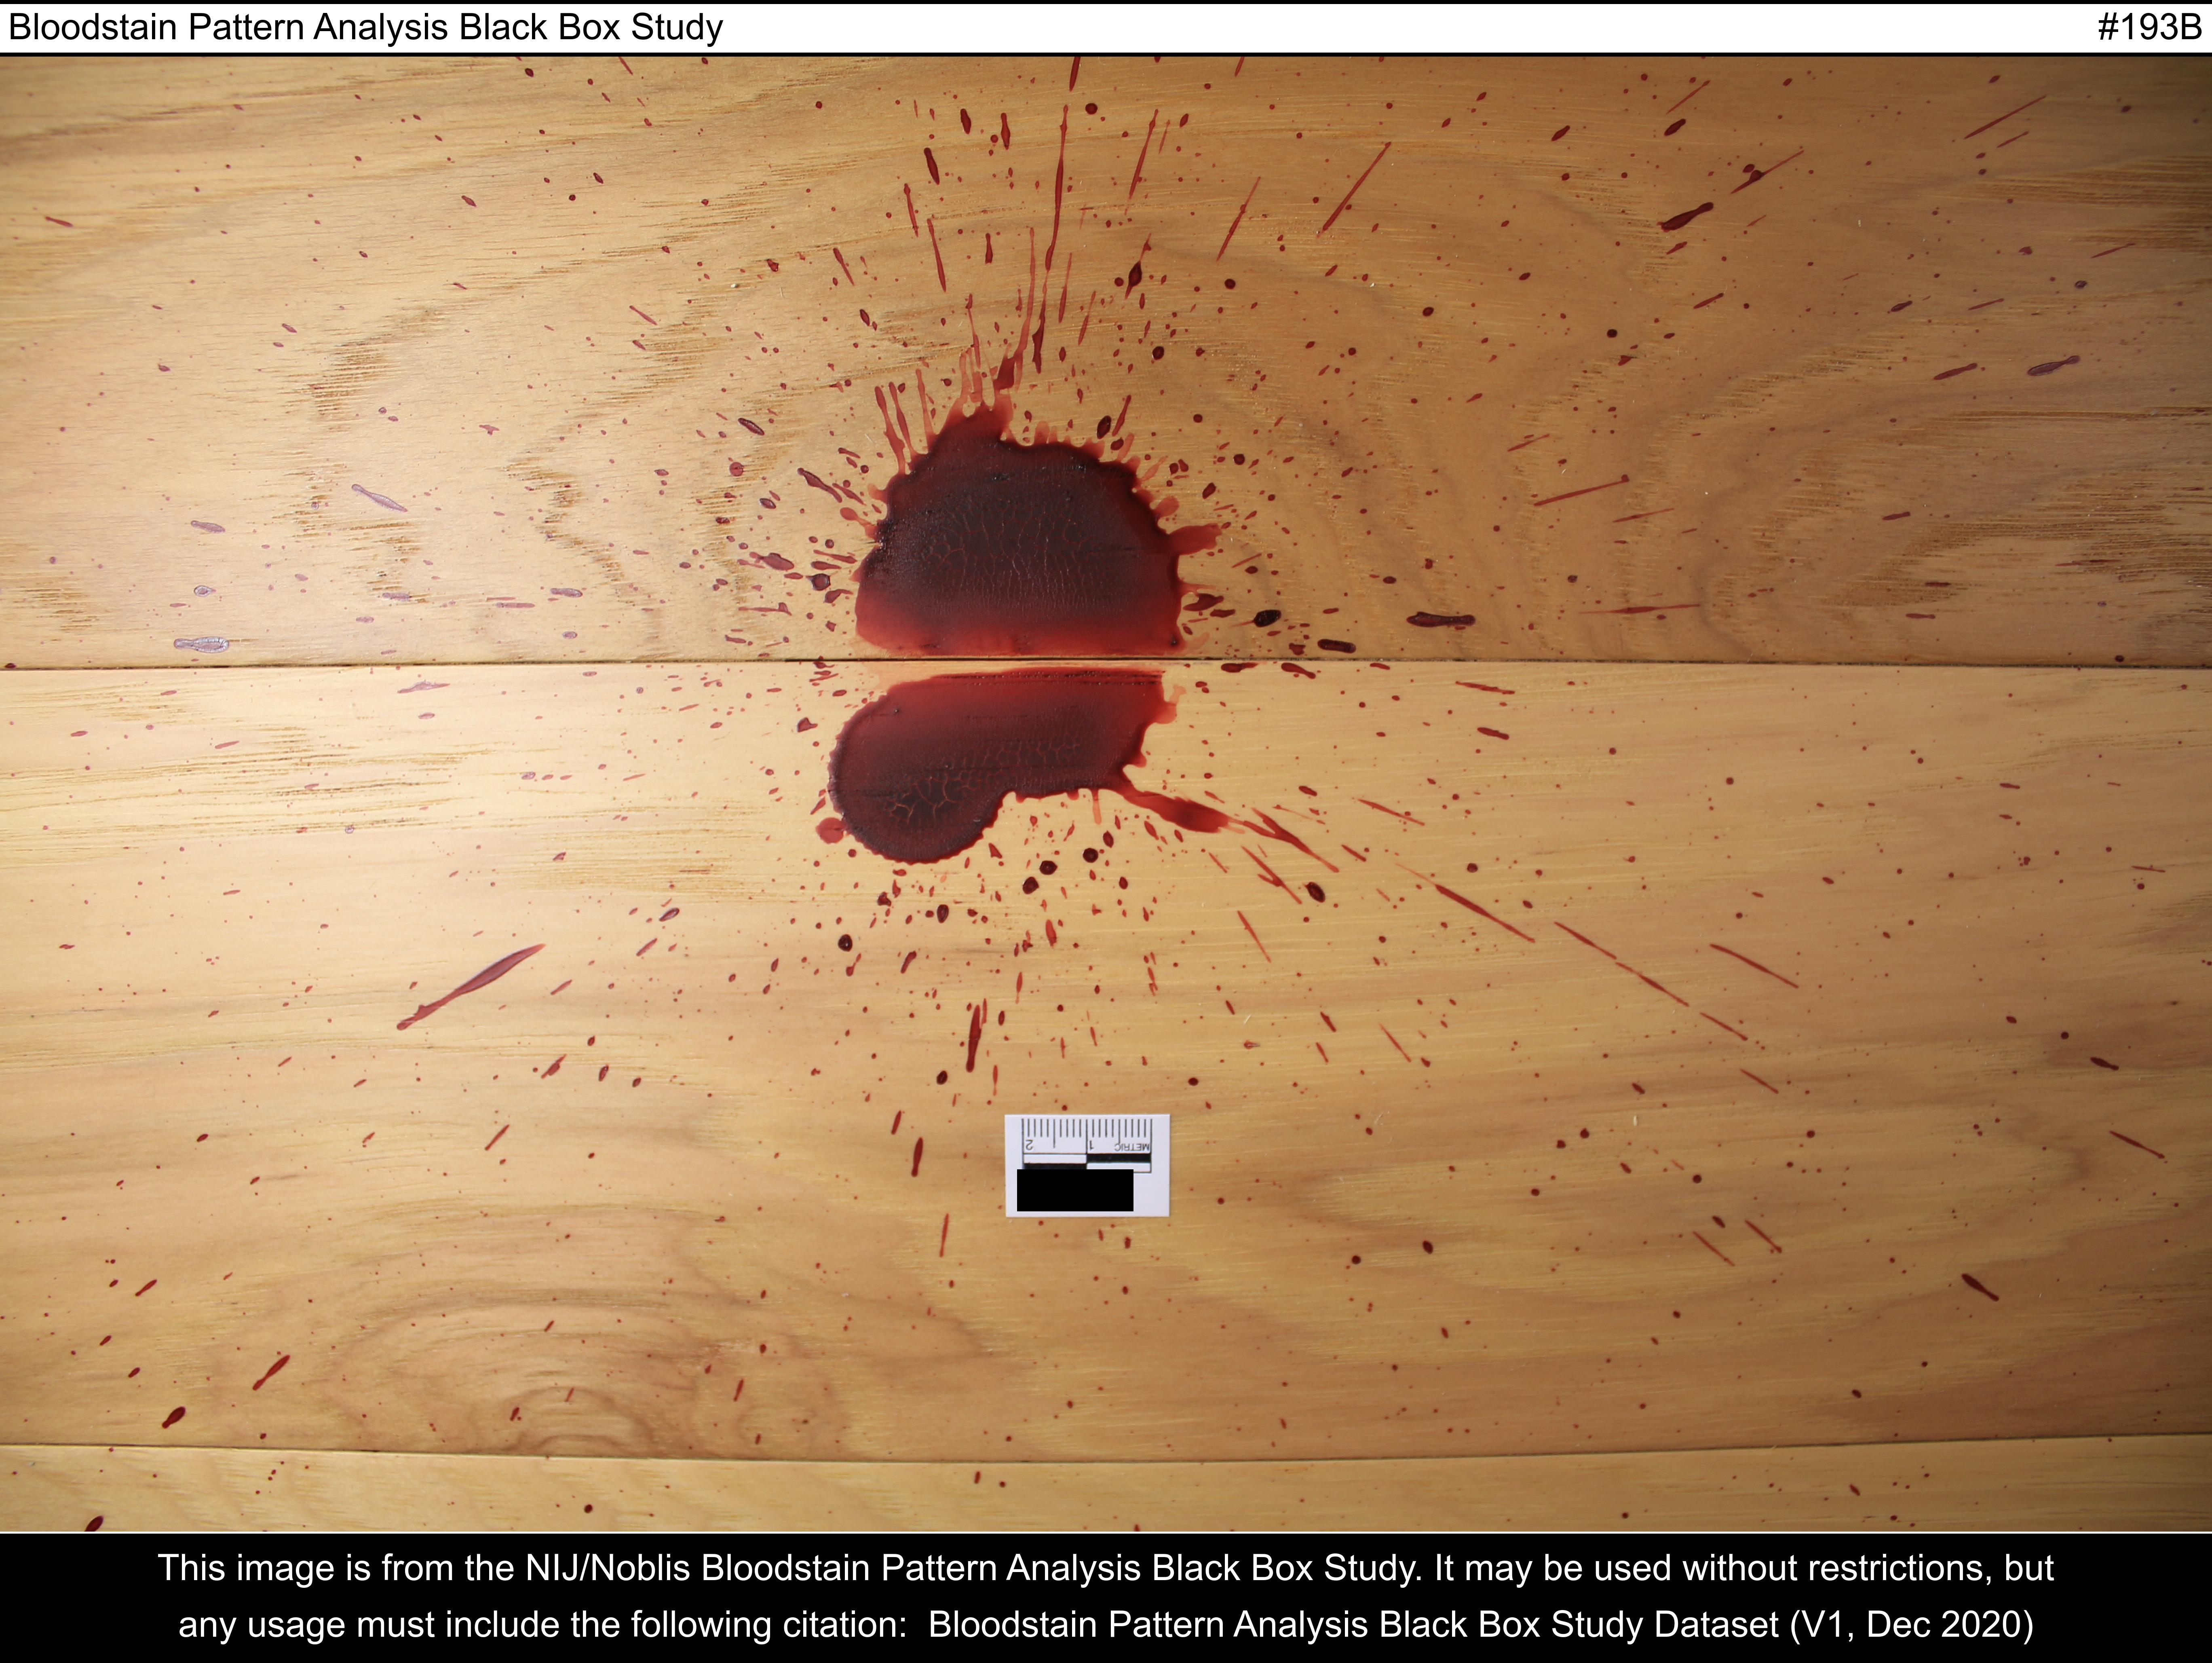Passive: (0, 52, 2207, 1532)
